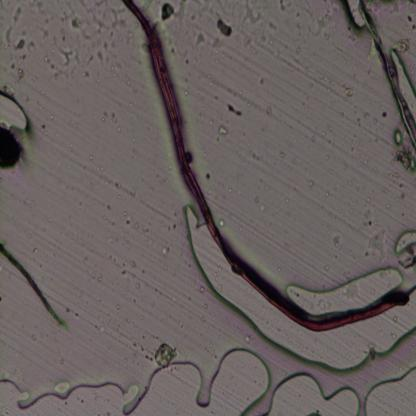Air bubble: (178, 204, 416, 376), (0, 329, 416, 415), (284, 267, 403, 315), (387, 48, 416, 121), (0, 91, 30, 131), (344, 1, 367, 32), (392, 231, 416, 255), (392, 128, 404, 146)
Background material: (4, 3, 36, 59), (86, 34, 119, 80), (46, 33, 76, 81), (0, 126, 27, 171), (92, 0, 122, 38), (62, 5, 95, 35), (314, 10, 338, 44), (237, 0, 267, 27), (244, 28, 268, 54), (392, 148, 414, 175), (156, 343, 178, 369), (138, 335, 157, 363), (160, 25, 176, 57), (369, 231, 388, 257), (226, 102, 244, 119), (216, 20, 233, 38), (399, 251, 416, 268), (160, 3, 175, 22), (16, 65, 30, 84), (164, 220, 178, 235), (344, 83, 355, 102), (275, 0, 289, 13), (196, 28, 206, 46), (111, 111, 120, 131), (140, 219, 152, 234), (211, 38, 222, 54), (228, 88, 244, 99), (263, 104, 273, 119), (123, 210, 132, 226), (249, 151, 262, 162), (162, 242, 171, 257), (37, 122, 48, 134), (244, 332, 254, 345), (196, 103, 206, 116), (326, 78, 334, 93), (334, 239, 344, 251), (218, 125, 228, 136), (198, 311, 206, 324), (106, 235, 116, 245), (121, 315, 132, 324), (269, 20, 278, 31), (204, 170, 212, 182), (102, 111, 110, 123), (30, 244, 39, 254), (361, 250, 371, 259), (358, 154, 366, 165), (258, 76, 266, 87), (354, 116, 361, 128), (198, 283, 205, 295), (132, 219, 140, 229), (134, 281, 142, 291), (380, 110, 388, 120), (92, 165, 105, 171), (208, 73, 214, 86), (260, 204, 266, 216), (389, 332, 397, 341), (277, 150, 286, 158), (129, 261, 138, 268), (121, 263, 127, 273), (364, 220, 376, 225), (344, 159, 349, 171), (295, 10, 301, 20), (219, 218, 225, 228), (340, 111, 347, 119), (398, 192, 405, 200), (132, 340, 137, 351), (48, 113, 54, 122), (92, 321, 98, 330), (184, 74, 189, 84), (97, 276, 104, 283), (116, 184, 123, 191), (312, 132, 316, 144), (184, 58, 190, 66), (59, 358, 65, 366), (284, 196, 290, 204), (325, 264, 331, 272), (328, 168, 334, 176), (366, 194, 372, 202), (326, 125, 334, 131), (184, 89, 190, 96), (325, 191, 331, 198), (364, 113, 370, 120), (209, 118, 214, 126), (227, 188, 233, 194), (216, 58, 220, 66), (310, 181, 314, 189), (327, 137, 331, 145), (90, 152, 94, 160), (372, 119, 378, 124), (320, 130, 325, 136), (325, 156, 330, 162), (94, 396, 99, 402), (370, 288, 375, 294), (65, 308, 70, 313), (398, 183, 403, 188), (255, 198, 259, 204), (383, 188, 389, 192), (75, 312, 79, 318), (297, 48, 301, 54), (394, 317, 398, 323), (354, 200, 358, 206), (386, 203, 390, 209), (215, 94, 219, 100), (91, 273, 97, 277), (348, 181, 352, 186), (307, 97, 311, 102), (107, 204, 110, 210), (270, 42, 274, 46), (80, 400, 84, 404), (113, 221, 116, 226), (289, 126, 292, 129)
Cellulose filter fibre: (357, 1, 416, 151), (0, 242, 66, 328)
Cotton: (121, 1, 409, 332)
